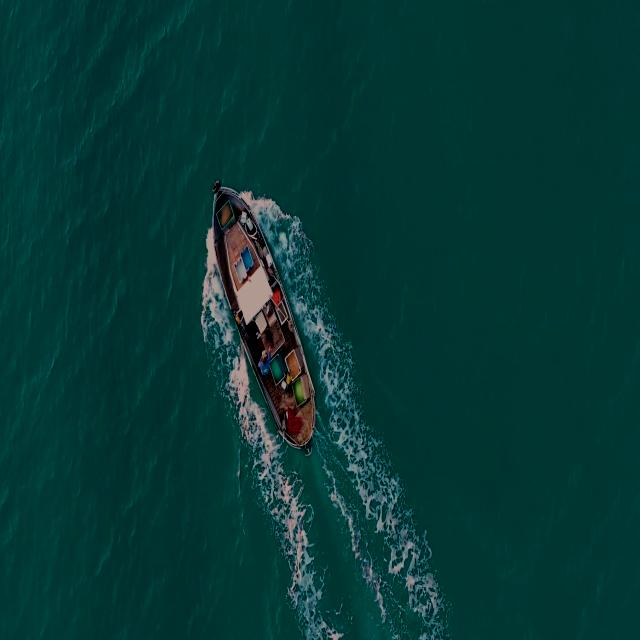ship: (206, 173, 320, 453)
